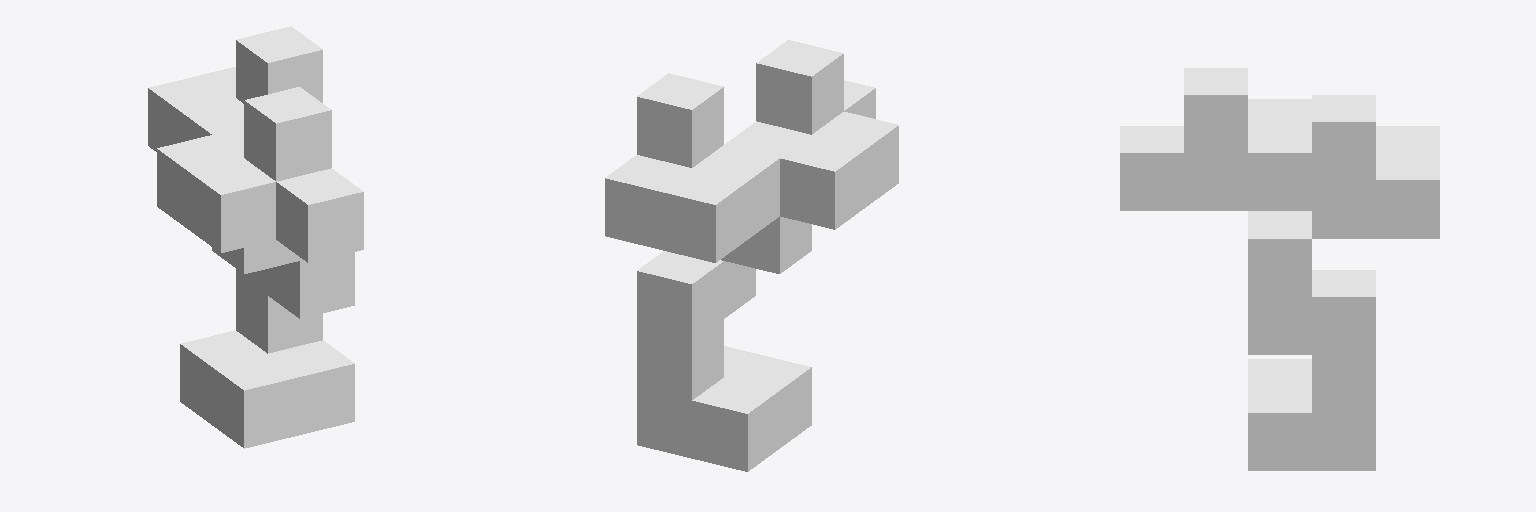
File: Sapling.obj
The picture shows the model from 3 angles: view 1: azimuth 30°, elevation 25°; view 2: azimuth 150°, elevation 25°; view 3: azimuth 270°, elevation 25°; orthographic projection.
Parts seen in each view (by area): view 1: object 1; view 2: object 1; view 3: object 1.
Boxes of the visible parts, x1=… form: object 1: x1=148, y1=26, x2=363, y2=448; object 1: x1=605, y1=40, x2=898, y2=471; object 1: x1=1120, y1=68, x2=1439, y2=470.
Size of the model in its own units: 0.3 by 0.6 by 0.5.